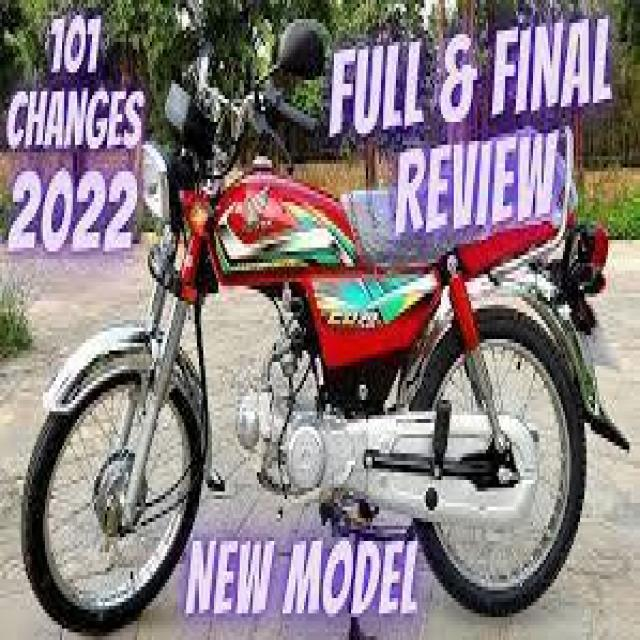motorcycle: (12, 15, 628, 625)
